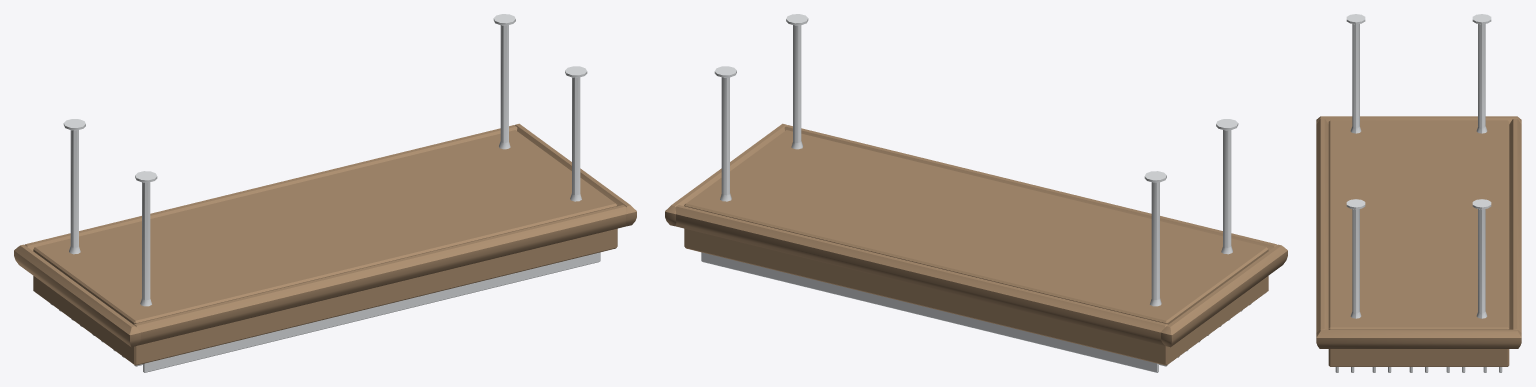
The model's file is bar-pub-and-brewery-taproom-bar-canopy-glass-rack-a32aca20__18326.glb.
3 renders of one model, left to right at view 1: azimuth 30°, elevation 25°; view 2: azimuth 150°, elevation 25°; view 3: azimuth 270°, elevation 25°, orthographic. The views are drawn at different scales.
Parts seen in each view (by area): view 1: bar-canopy-glass-rack; view 2: bar-canopy-glass-rack; view 3: bar-canopy-glass-rack.
Boxes of the visible parts, left/top/right/bottom form: bar-canopy-glass-rack: left=14, top=14, right=636, bottom=372; bar-canopy-glass-rack: left=665, top=14, right=1287, bottom=372; bar-canopy-glass-rack: left=1316, top=14, right=1521, bottom=372.
Size of the model in its own units: 1.89 by 0.6621 by 0.75.
